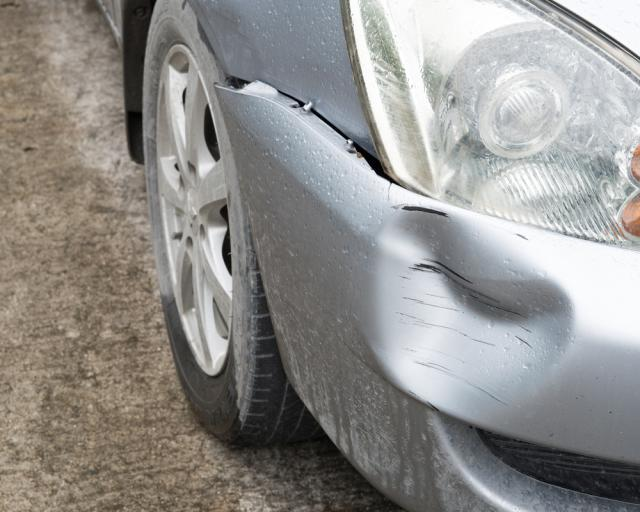dent: (373, 208, 571, 420)
